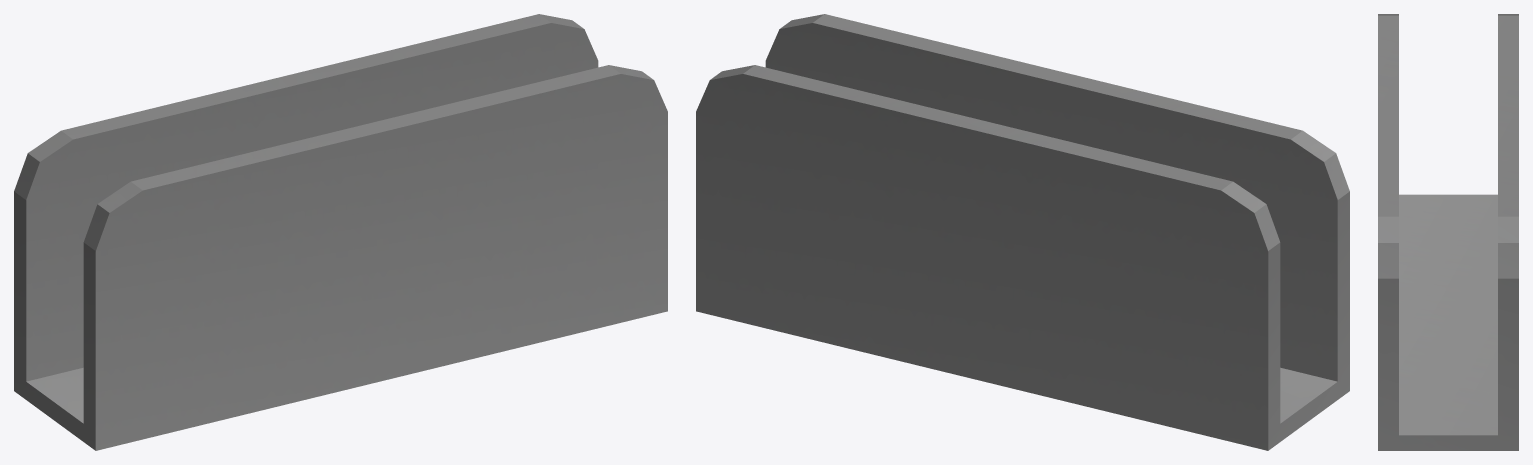
File: SpongeRack.fbx
3 renders of one model, left to right at view 1: azimuth 30°, elevation 25°; view 2: azimuth 150°, elevation 25°; view 3: azimuth 270°, elevation 25°, orthographic. The views are drawn at different scales.
Visible parts, largest first — view 1: Kit_1_SpongeRack; view 2: Kit_1_SpongeRack; view 3: Kit_1_SpongeRack.
Boxes of the visible parts, <box> form: Kit_1_SpongeRack: <box>14,14,667,450</box>; Kit_1_SpongeRack: <box>696,14,1349,450</box>; Kit_1_SpongeRack: <box>1378,14,1518,450</box>.
Bounding box in the file's own units: 9.47 × 3.94 × 2.34.
